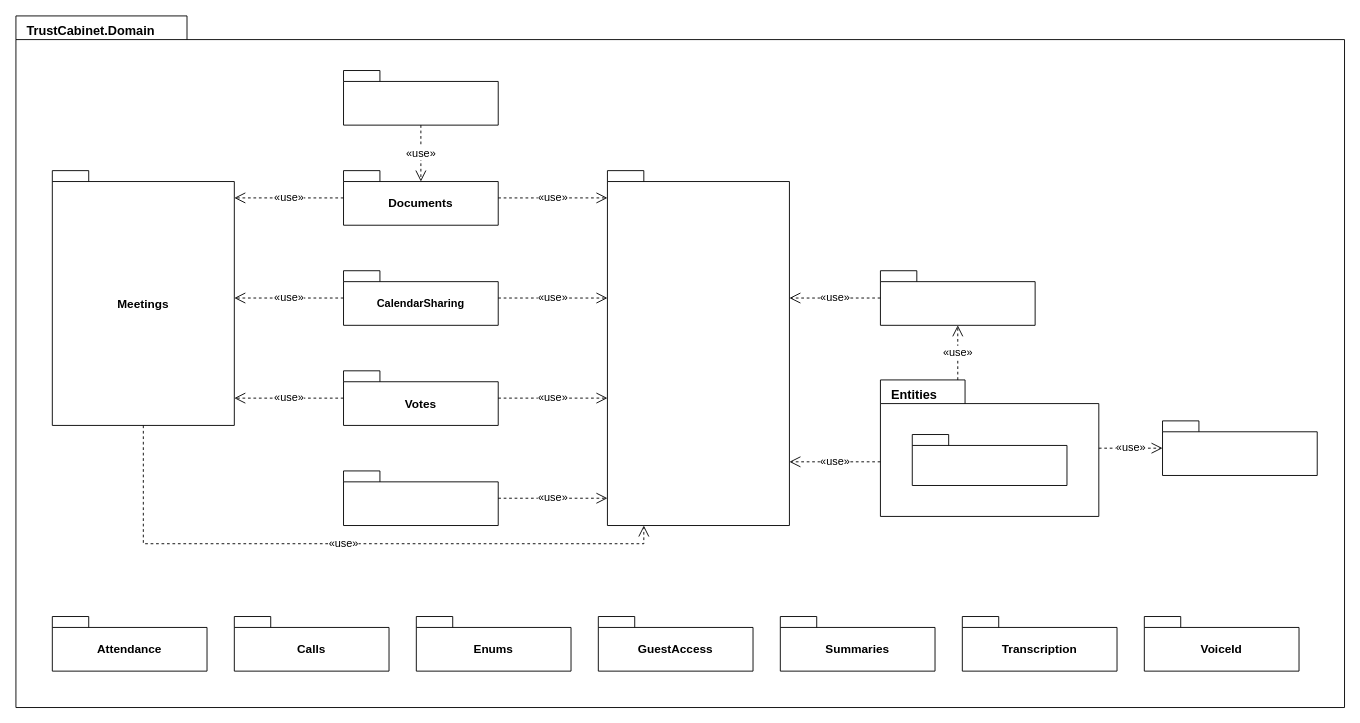
This 1360x723 diagram has some shape labels left out. Here are the shapes that lost their labels. From the top down, the centre of each, then its label:
At (x=420, y=97): "Agenda".
At (x=957, y=297): "Recordings".
At (x=698, y=348): "Participants".
At (x=989, y=459): "Common".
At (x=1239, y=447): "Access".
At (x=420, y=498): "Audit".
